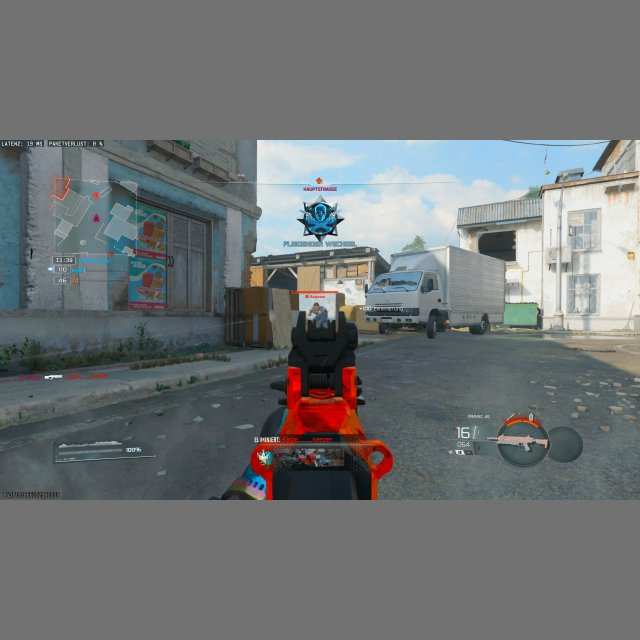player: (308, 301, 328, 329)
